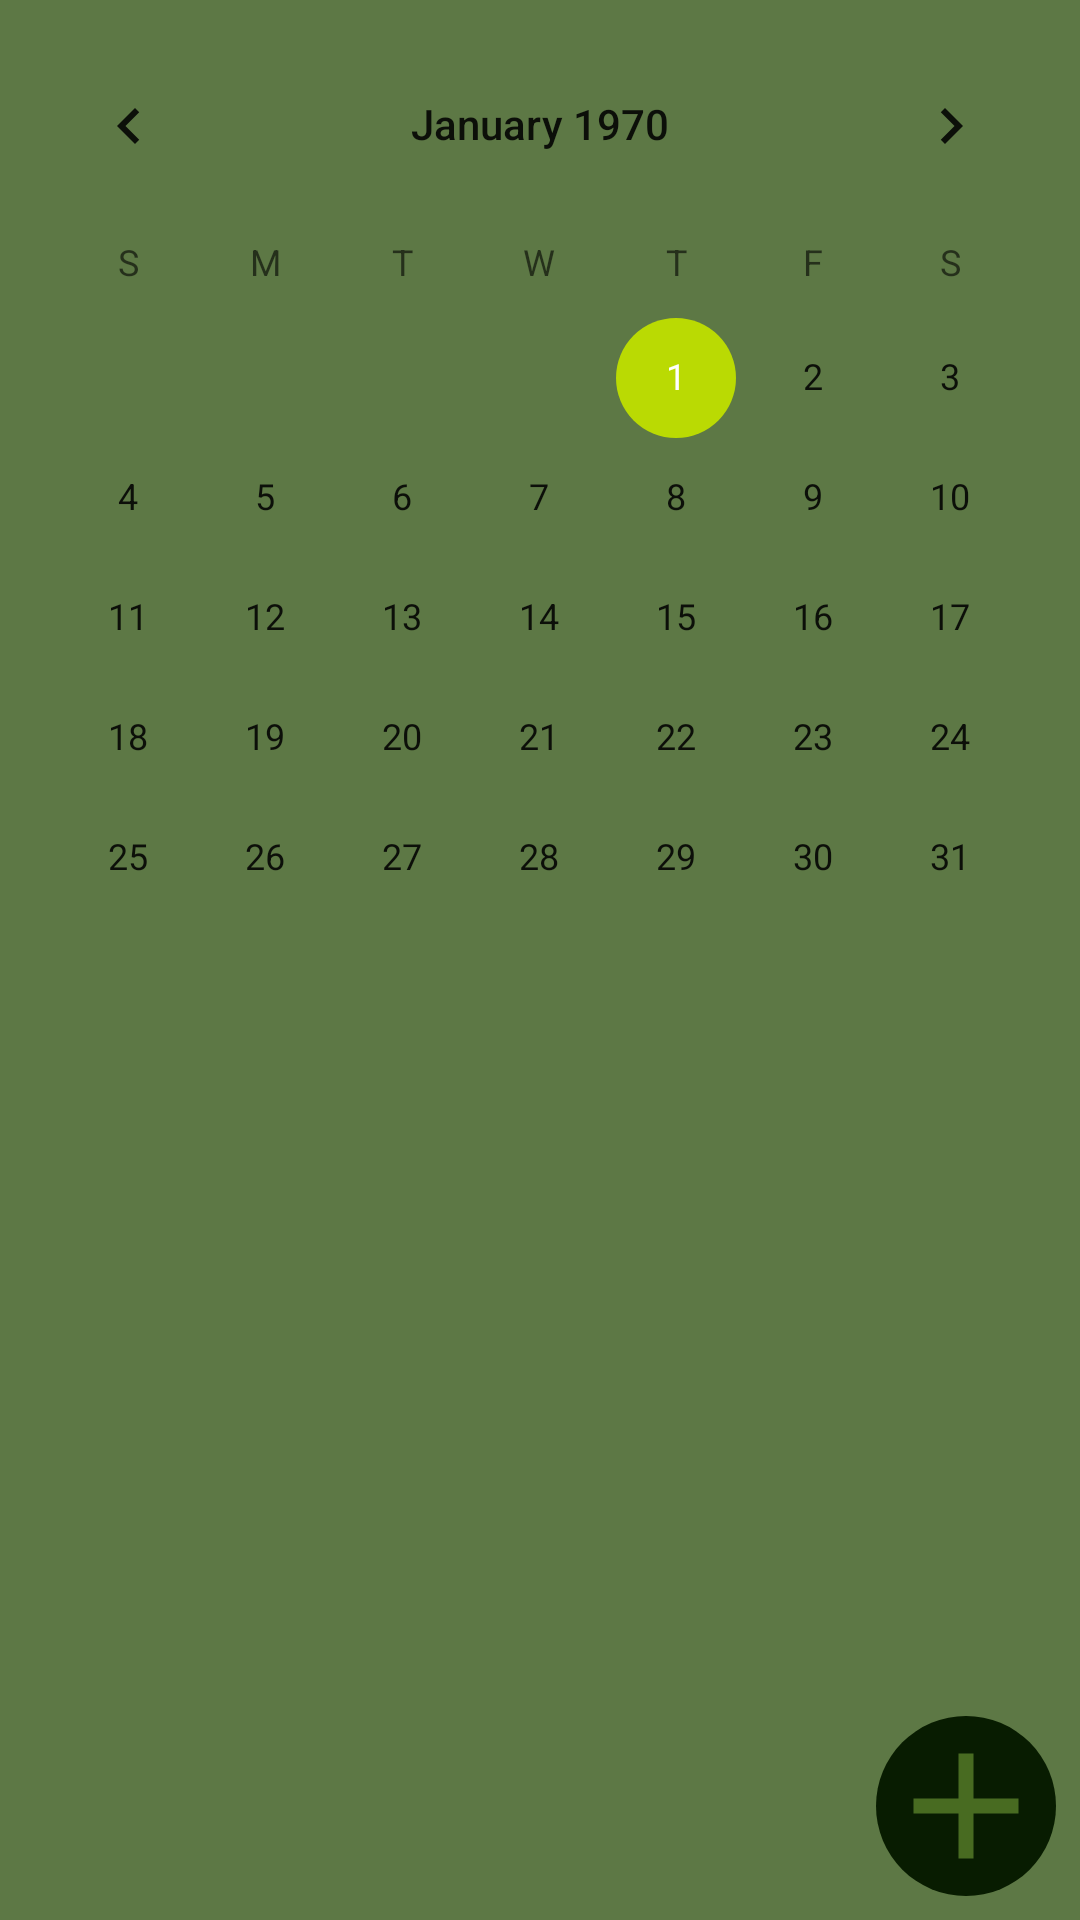

Screen size 1080w x 1920h. Icon name, then its box in pixels as (x1, y1, x2, y2):
add case: (876, 1716, 1056, 1896)
